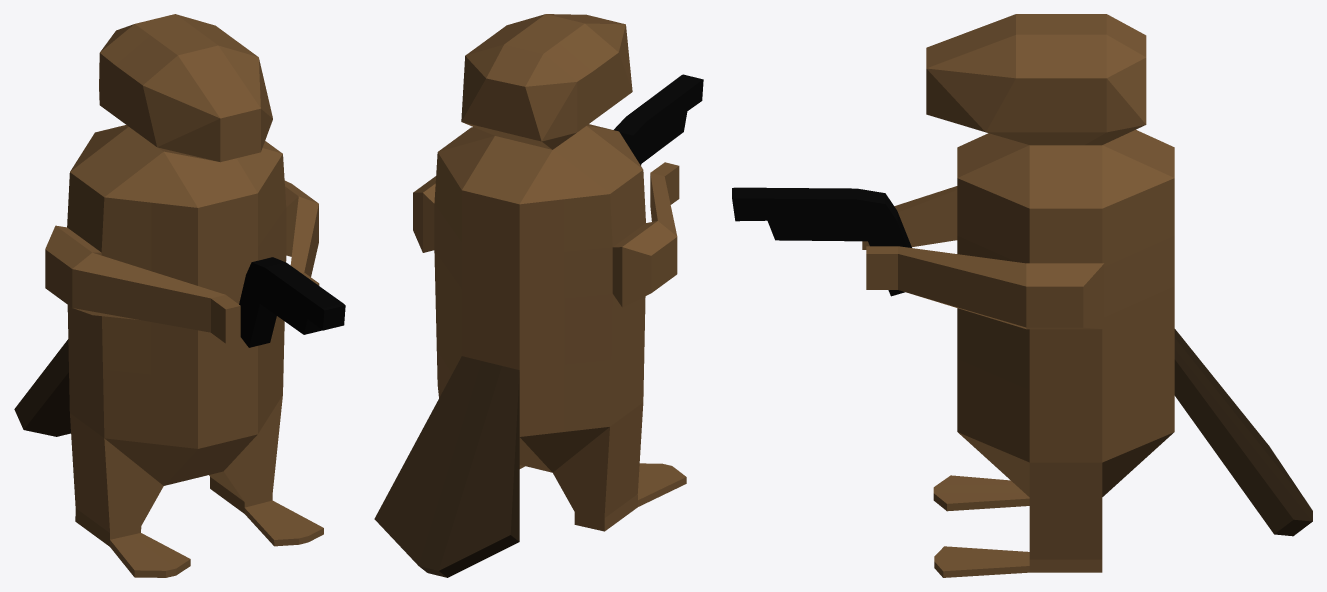
File: shooting_beaver_model.fbx
3 renders of one model, left to right at view 1: azimuth 30°, elevation 25°; view 2: azimuth 150°, elevation 25°; view 3: azimuth 270°, elevation 25°, orthographic. The views are drawn at different scales.
Parts seen in each view (by area): view 1: Cube; view 2: Cube; view 3: Cube.
Boxes of the visible parts, left/top/right/bottom form: Cube: left=14, top=14, right=345, bottom=577; Cube: left=374, top=14, right=703, bottom=577; Cube: left=732, top=14, right=1312, bottom=577.
Size of the model in its own units: 91.77 by 171 by 178.
